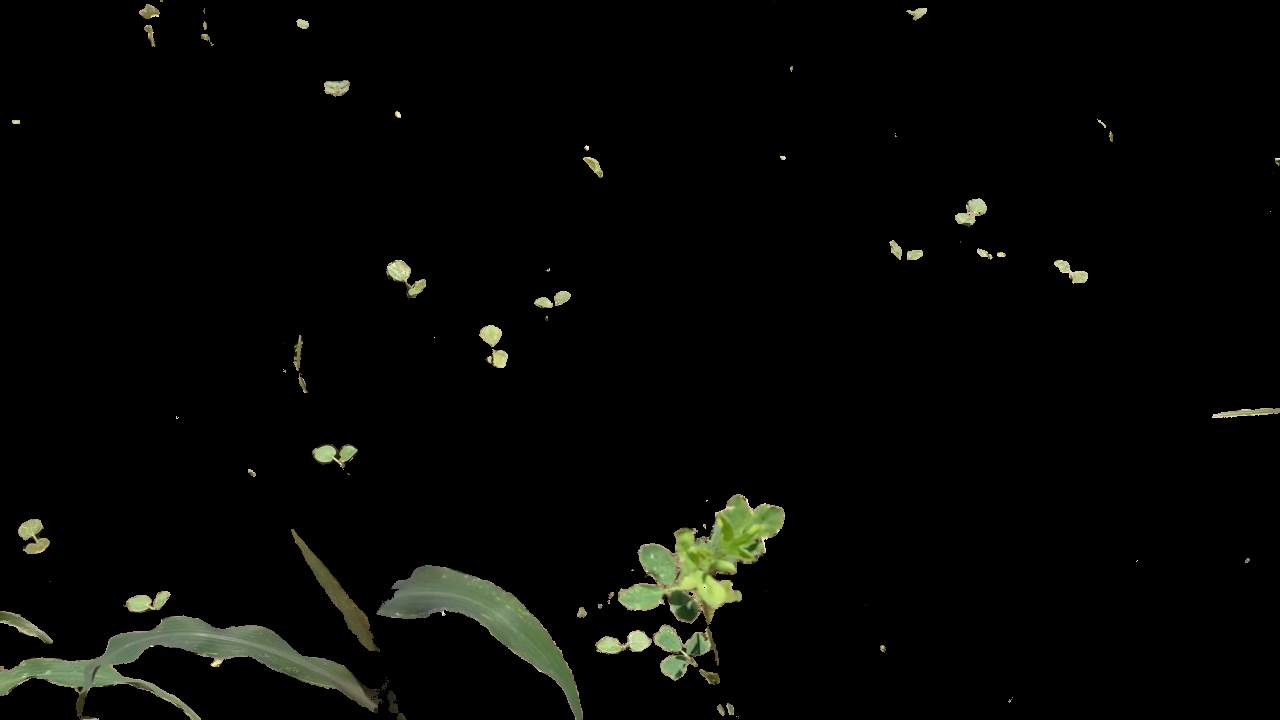crop: (73, 507, 585, 720)
weed: (584, 464, 777, 720), (465, 314, 521, 382), (268, 333, 319, 404), (379, 254, 435, 299), (13, 510, 60, 563), (121, 586, 177, 619), (527, 287, 574, 322), (1045, 250, 1091, 285), (310, 444, 364, 469), (879, 237, 924, 266), (318, 77, 358, 108), (953, 192, 985, 228)
